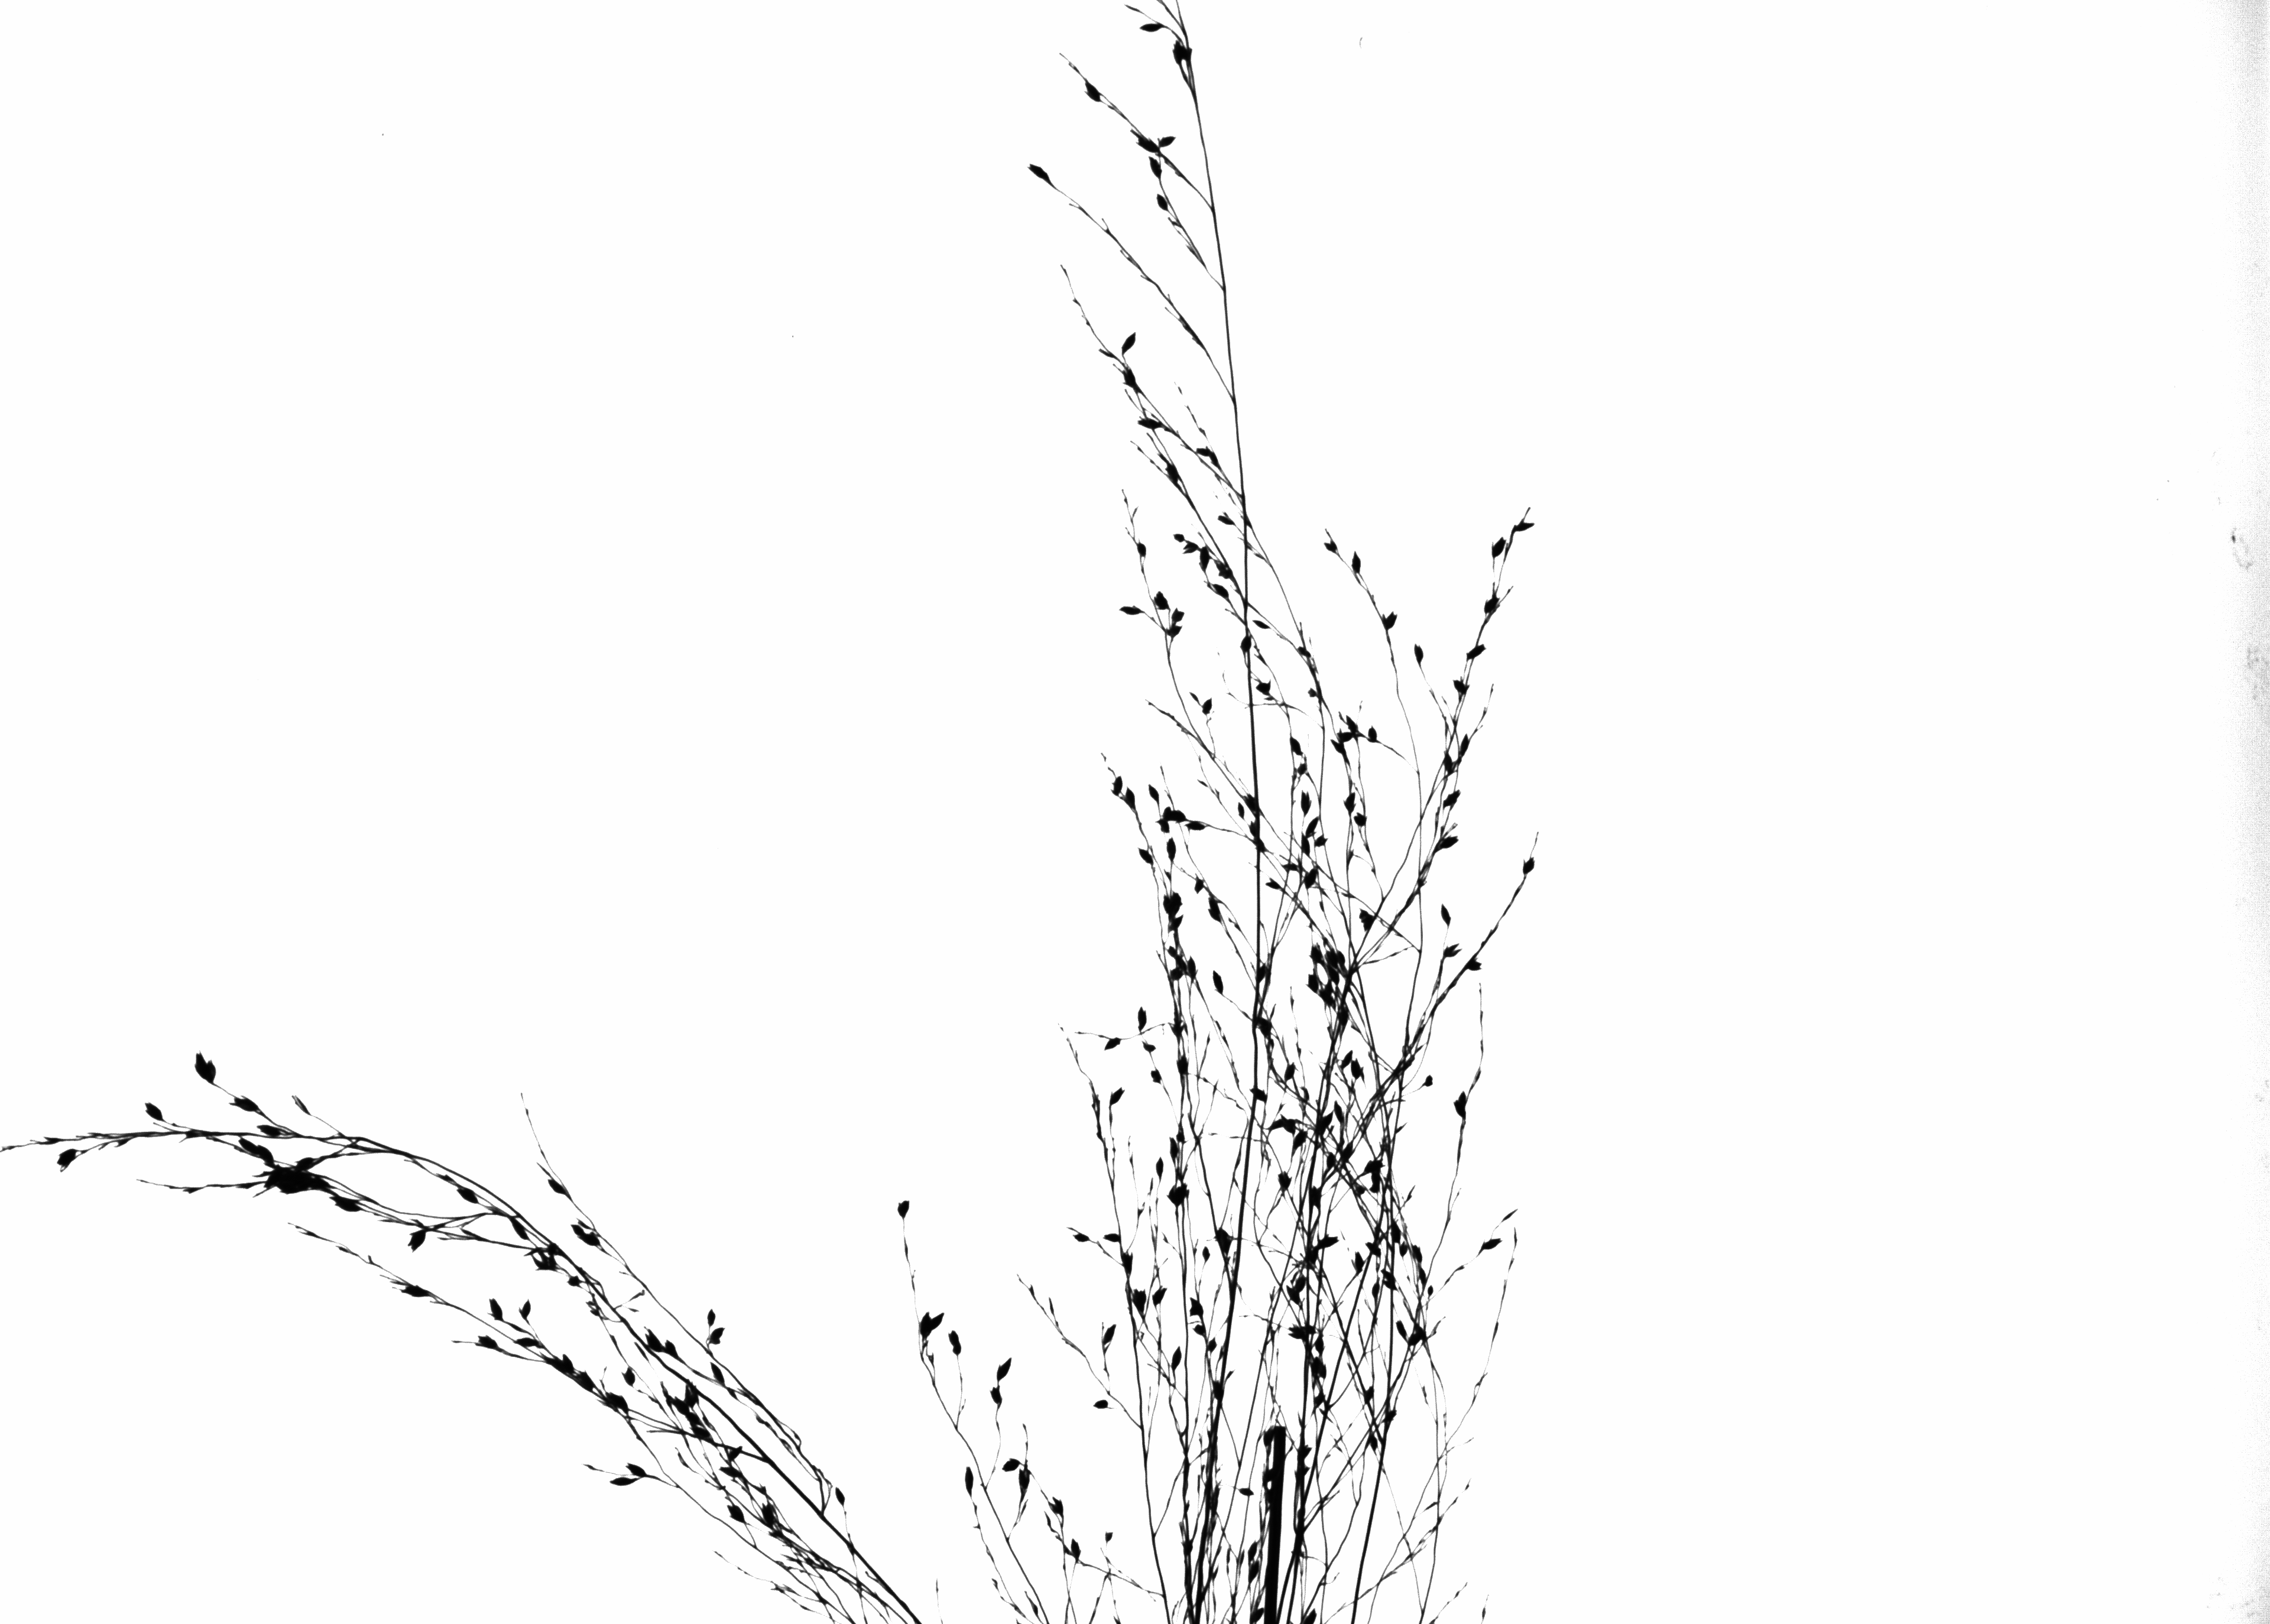seed: (1023, 158, 1055, 190), (1354, 900, 1380, 932), (230, 1090, 262, 1114), (484, 1292, 508, 1323), (327, 1193, 362, 1214), (452, 1181, 482, 1206), (916, 1306, 935, 1343), (141, 1097, 167, 1123), (508, 1213, 531, 1243), (1134, 415, 1168, 434), (58, 1144, 81, 1172), (399, 1283, 434, 1301), (255, 1121, 287, 1141), (510, 1334, 549, 1350), (723, 1499, 747, 1524), (1440, 786, 1465, 810), (406, 1225, 429, 1251), (642, 1327, 665, 1353), (545, 1176, 573, 1197), (473, 1330, 501, 1352), (1463, 642, 1491, 663), (758, 1499, 777, 1529), (1129, 1283, 1148, 1313), (290, 1091, 313, 1116), (1134, 130, 1157, 155), (707, 1360, 728, 1387), (891, 1195, 913, 1222), (1160, 457, 1182, 483), (1081, 79, 1102, 105), (1215, 1225, 1234, 1253), (624, 1461, 652, 1480), (1173, 1051, 1192, 1079), (1343, 710, 1363, 738), (1136, 16, 1164, 35), (962, 1461, 976, 1497), (1289, 1128, 1310, 1153), (1243, 791, 1264, 816), (1285, 731, 1306, 756), (1305, 812, 1324, 838), (1437, 833, 1463, 852), (1146, 155, 1166, 181), (1210, 967, 1226, 998), (621, 1362, 638, 1390), (1101, 1320, 1118, 1348), (1131, 1004, 1148, 1032), (1477, 1236, 1505, 1253), (1117, 601, 1145, 619), (1101, 1032, 1124, 1053), (1482, 592, 1503, 615), (258, 1142, 278, 1167), (830, 1483, 849, 1508), (1118, 367, 1138, 392), (1122, 1250, 1138, 1280), (1016, 1462, 1030, 1496), (995, 1355, 1013, 1381), (1152, 1283, 1169, 1309), (1437, 900, 1454, 926), (1382, 606, 1400, 633), (1488, 533, 1505, 559), (1210, 1374, 1226, 1403), (193, 1048, 207, 1079), (707, 1325, 728, 1346), (1363, 1239, 1384, 1260), (946, 1327, 962, 1355), (1331, 1097, 1347, 1125), (1349, 548, 1364, 576), (1317, 988, 1336, 1011), (1245, 1084, 1268, 1104), (1255, 1014, 1275, 1037), (1108, 1084, 1127, 1107), (1451, 675, 1470, 698), (1211, 580, 1231, 603), (1189, 1294, 1206, 1318), (1252, 960, 1270, 984), (1294, 831, 1312, 856), (1192, 445, 1217, 462), (1120, 330, 1138, 355), (1305, 863, 1319, 893), (559, 1350, 575, 1376), (1317, 1234, 1343, 1250), (1308, 1183, 1324, 1209), (1162, 835, 1178, 861), (1298, 787, 1313, 814), (1440, 747, 1456, 773), (1197, 543, 1213, 569), (986, 1383, 1006, 1404), (1248, 1603, 1268, 1624), (1243, 1561, 1262, 1582), (1519, 854, 1539, 875), (1294, 643, 1315, 663), (1152, 192, 1171, 213), (691, 1425, 714, 1443), (930, 1309, 948, 1332), (1393, 1318, 1410, 1341), (1280, 1111, 1298, 1134), (1250, 615, 1273, 633), (1067, 1534, 1081, 1562), (1169, 1343, 1183, 1371), (1303, 972, 1319, 997), (1238, 631, 1254, 656), (563, 1271, 582, 1290), (1328, 738, 1347, 758), (1217, 510, 1236, 529), (237, 1137, 258, 1155), (520, 1295, 535, 1322), (1352, 1248, 1366, 1274), (1204, 905, 1222, 926), (1136, 845, 1153, 866), (1412, 638, 1426, 664), (1319, 536, 1340, 554), (1169, 39, 1183, 65), (607, 1475, 637, 1487), (1187, 954, 1199, 984), (1168, 1185, 1183, 1207), (717, 1464, 740, 1480), (1285, 1285, 1301, 1308), (1361, 1383, 1377, 1406), (1069, 1229, 1092, 1244), (1277, 1169, 1292, 1192), (1168, 912, 1183, 935), (1449, 1097, 1465, 1120), (615, 1390, 629, 1415), (1342, 1139, 1356, 1164), (1153, 1153, 1166, 1181), (1458, 1084, 1470, 1113), (1459, 729, 1473, 754), (673, 1394, 691, 1413), (1382, 1265, 1400, 1285), (1305, 1605, 1322, 1624), (1203, 893, 1220, 912), (1444, 940, 1461, 960), (1132, 538, 1150, 557), (297, 1153, 318, 1169), (206, 1055, 216, 1086), (665, 1336, 680, 1357), (1236, 1483, 1257, 1499), (1102, 1229, 1124, 1244), (1324, 963, 1340, 984), (1340, 1048, 1356, 1069), (1138, 1039, 1159, 1055), (1247, 819, 1262, 840), (1145, 782, 1160, 803), (1153, 589, 1169, 610), (1168, 1134, 1180, 1160), (1396, 1237, 1410, 1260), (1245, 1540, 1259, 1562), (1368, 1276, 1382, 1299), (1284, 1060, 1298, 1083), (1343, 791, 1357, 814), (1366, 722, 1380, 745), (1512, 518, 1535, 533), (1168, 965, 1185, 982), (1159, 132, 1176, 149), (730, 1445, 746, 1464), (1364, 1432, 1380, 1452), (1000, 1457, 1020, 1473), (1092, 1396, 1111, 1411), (1305, 682, 1321, 701), (1255, 678, 1275, 694), (1204, 1332, 1219, 1353), (1310, 942, 1324, 963), (1261, 877, 1282, 891), (1465, 958, 1486, 972), (1053, 1492, 1066, 1515), (707, 1302, 717, 1329), (1252, 838, 1270, 854), (1282, 858, 1299, 874), (1324, 1149, 1338, 1169), (1422, 1072, 1437, 1091), (1192, 874, 1206, 893), (1155, 816, 1169, 835), (1201, 696, 1215, 715), (1313, 1332, 1326, 1353), (1313, 1390, 1326, 1411), (1160, 891, 1171, 916), (1183, 821, 1208, 831), (1162, 624, 1183, 636), (568, 1222, 584, 1237), (1146, 1069, 1164, 1083), (1313, 833, 1331, 847), (1169, 608, 1187, 622), (1185, 691, 1201, 705), (1169, 529, 1185, 543), (1356, 808, 1368, 826), (1113, 773, 1122, 798), (1201, 1243, 1211, 1262), (1234, 800, 1245, 819), (1190, 1322, 1206, 1334), (1104, 1529, 1117, 1545), (1301, 1445, 1313, 1459), (1287, 1330, 1306, 1339), (1298, 761, 1308, 775), (1321, 1362, 1328, 1381), (1428, 1281, 1437, 1295)
